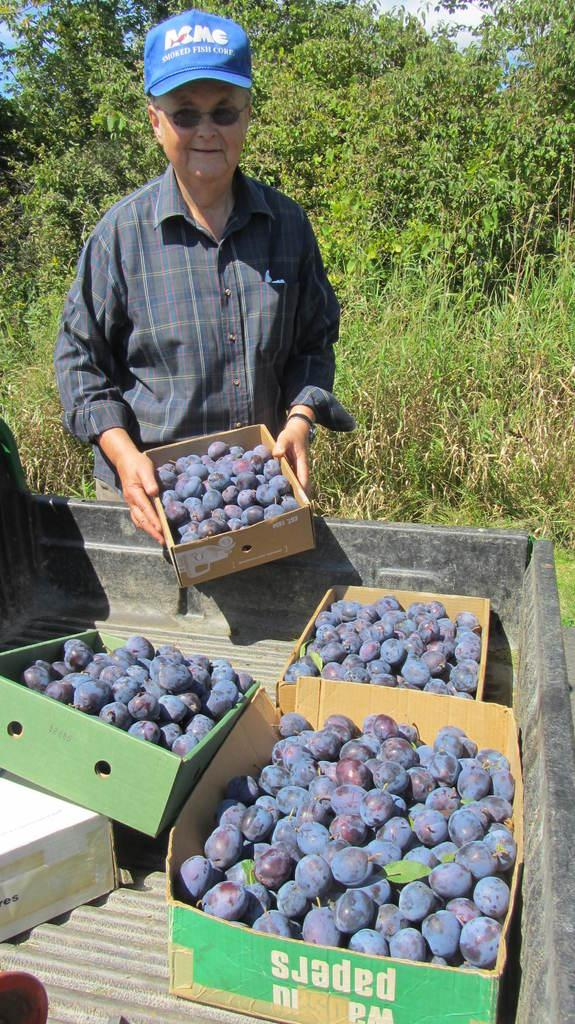Hat: (138, 20, 252, 99)
